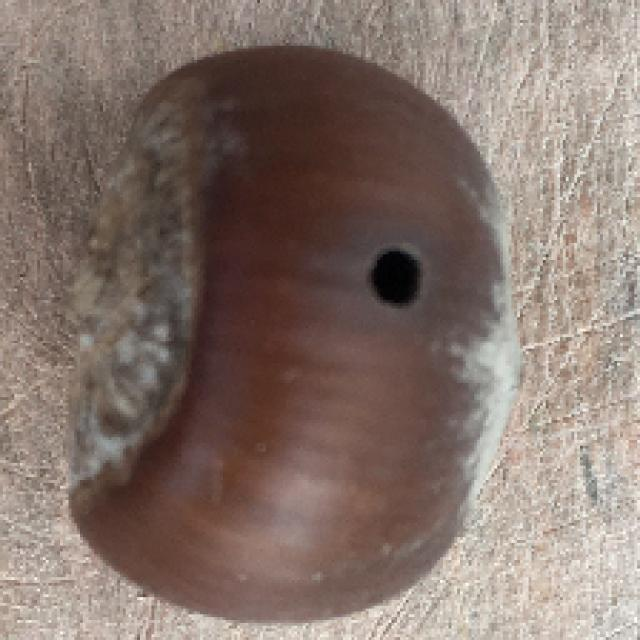damagedHazelnut: (57, 44, 523, 605)
